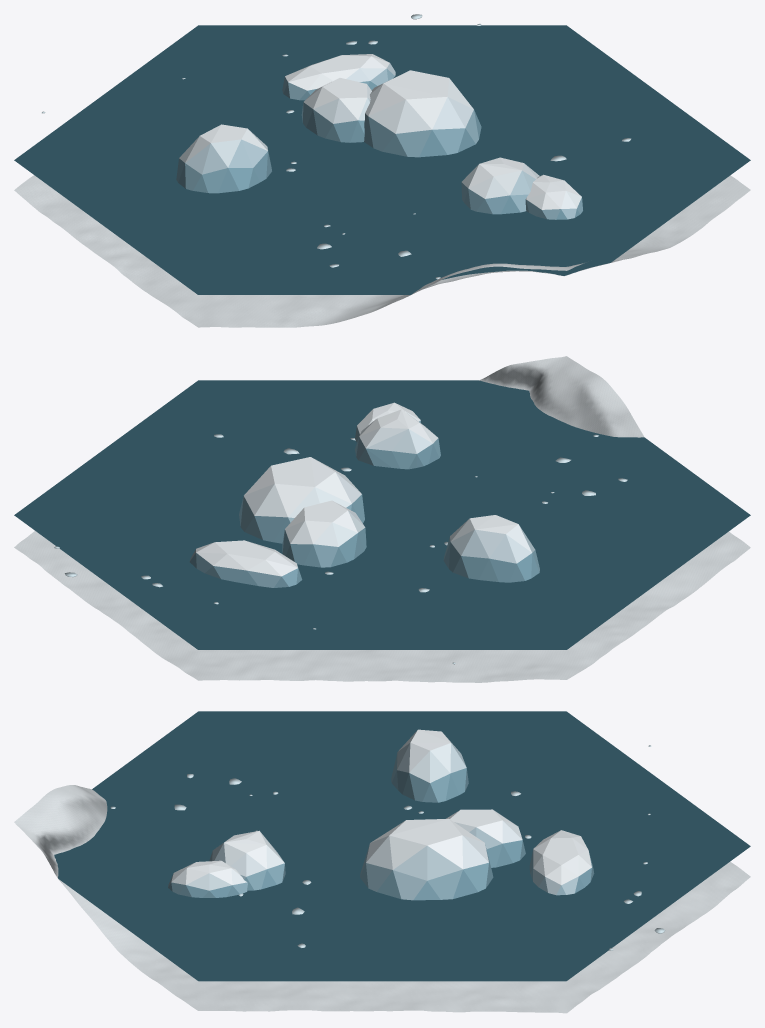
3 views of the same model, one above another, from view 1: azimuth 30°, elevation 25°; view 2: azimuth 150°, elevation 25°; view 3: azimuth 270°, elevation 25° (orthographic).
Parts seen in each view (by area): view 1: sea_level_0, terrain_v10, WG_18_berg_04, WG_18_berg_00, WG_18_berg_03, WG_18_berg_01, WG_18_berg_02, WG_18_berg_05; view 2: sea_level_0, terrain_v10, WG_18_berg_04, WG_18_berg_00, WG_18_berg_03, WG_18_berg_02, WG_18_berg_01, WG_18_berg_05; view 3: sea_level_0, terrain_v10, WG_18_berg_04, WG_18_berg_00, WG_18_berg_02, WG_18_berg_01, WG_18_berg_03, WG_18_berg_05.
Part boxes in pixels (box(x1,y1,x2,y2)): sea_level_0: box(14, 25, 750, 294); terrain_v10: box(14, 175, 750, 327); WG_18_berg_04: box(364, 70, 481, 157); WG_18_berg_00: box(176, 124, 271, 193); WG_18_berg_03: box(301, 78, 371, 142); WG_18_berg_01: box(461, 157, 539, 214); WG_18_berg_02: box(282, 54, 395, 100); WG_18_berg_05: box(525, 174, 582, 219); sea_level_0: box(14, 380, 750, 649); terrain_v10: box(14, 356, 750, 682); WG_18_berg_04: box(239, 457, 364, 543); WG_18_berg_00: box(443, 515, 539, 582); WG_18_berg_03: box(282, 500, 366, 567); WG_18_berg_02: box(189, 540, 302, 587); WG_18_berg_01: box(354, 409, 440, 469); WG_18_berg_05: box(355, 402, 420, 442); sea_level_0: box(54, 711, 750, 981); terrain_v10: box(14, 785, 750, 1013); WG_18_berg_04: box(360, 818, 493, 900); WG_18_berg_00: box(391, 729, 468, 802); WG_18_berg_02: box(529, 830, 594, 895); WG_18_berg_01: box(209, 830, 285, 890); WG_18_berg_03: box(446, 809, 525, 867); WG_18_berg_05: box(168, 860, 247, 897).
Size of the model in its own units: 4330 by 898 by 5000.
Materials: 36 (1 with a texture image).
